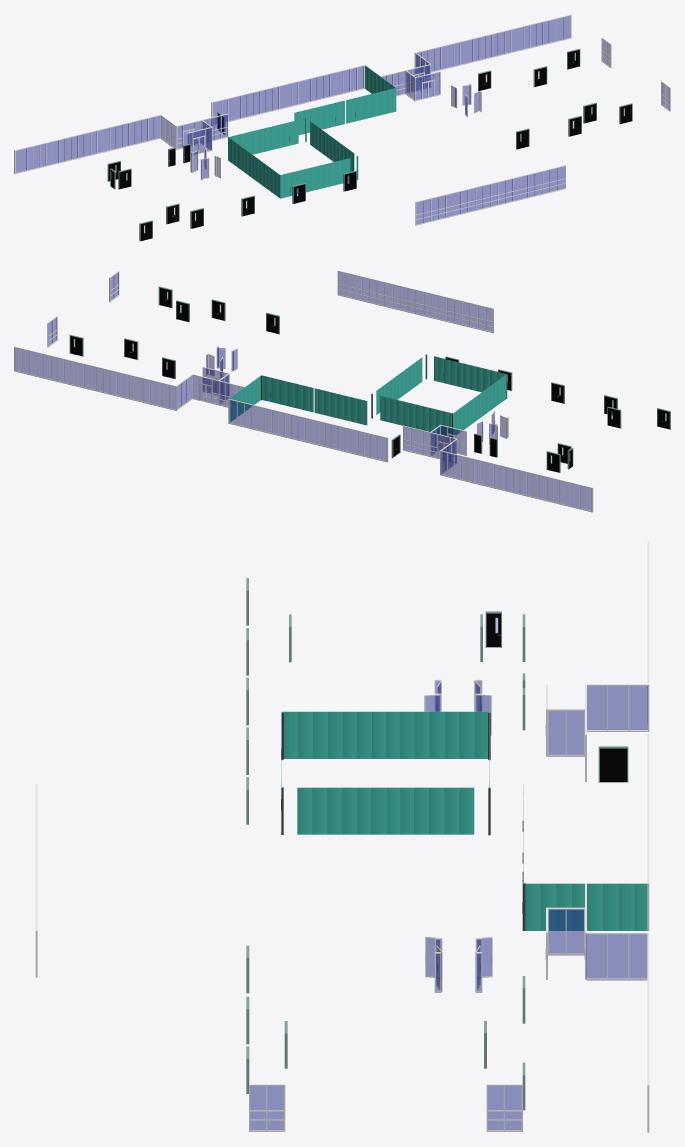
File: 3F_Door.fbx
3 views of the same model, one above another, from view 1: azimuth 30°, elevation 25°; view 2: azimuth 150°, elevation 25°; view 3: azimuth 270°, elevation 25° (orthographic). The views are drawn at different scales.
Parts seen in each view (by area): view 1: Glass_Front, Glass_01, Glass_Wall002, Window_Back, Glass_Wall, Glass_Class_Door005, Glass_Door_set_F001, Glass_Door_set_F002; view 2: Glass_Front, Glass_01, Glass_Wall002, Window_Back, Glass_Wall, Glass_Class_Door005, Glass_Door_set_F002, Glass_Door_set_F001; view 3: Glass_Wall002, Glass_Front, Glass_Wall, Glass_01, Window_Single, Window_Single001, Glass_Door_set_F002, Door_set_B_2B, Glass_Door_set_F001.
Boxes of the visible parts, x1,y1,x2,y2 form: Glass_Front: (211, 14, 571, 125); Glass_01: (14, 113, 228, 174); Glass_Wall002: (228, 121, 354, 197); Window_Back: (415, 165, 565, 225); Glass_Wall: (303, 65, 396, 133); Glass_Class_Door005: (229, 120, 350, 198); Glass_Door_set_F001: (190, 146, 220, 180); Glass_Door_set_F002: (451, 83, 481, 117); Glass_Front: (14, 346, 388, 462); Glass_01: (403, 424, 593, 512); Glass_Wall002: (376, 357, 506, 435); Window_Back: (337, 270, 493, 333); Glass_Wall: (229, 375, 357, 422); Glass_Class_Door005: (380, 356, 505, 437); Glass_Door_set_F002: (206, 346, 237, 377); Glass_Door_set_F001: (477, 411, 508, 444); Glass_Wall002: (281, 711, 489, 834); Glass_Front: (545, 734, 649, 1132); Glass_Wall: (522, 793, 647, 930); Glass_01: (545, 541, 649, 781); Window_Single: (486, 1084, 522, 1131); Window_Single001: (249, 1084, 285, 1131); Glass_Door_set_F002: (425, 936, 492, 992); Door_set_B_2B: (598, 746, 628, 782); Glass_Door_set_F001: (424, 679, 491, 735).
Size of the model in its own units: 79.29 by 3.2 by 37.82.
